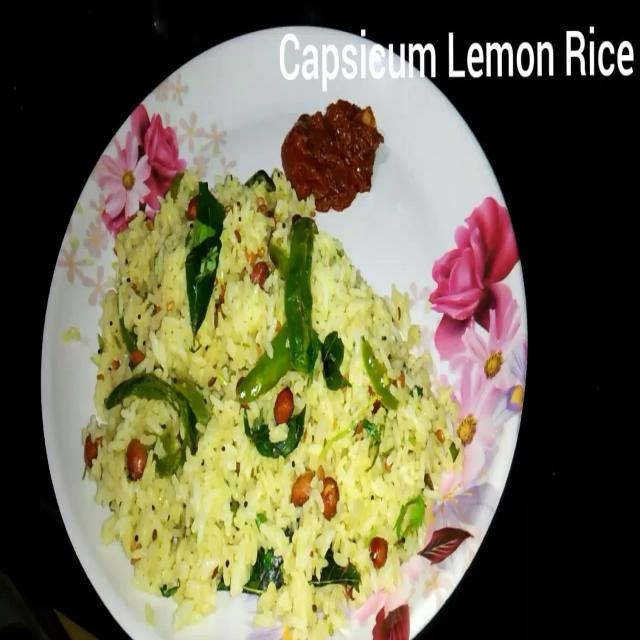lemon rice: (75, 146, 473, 640)
